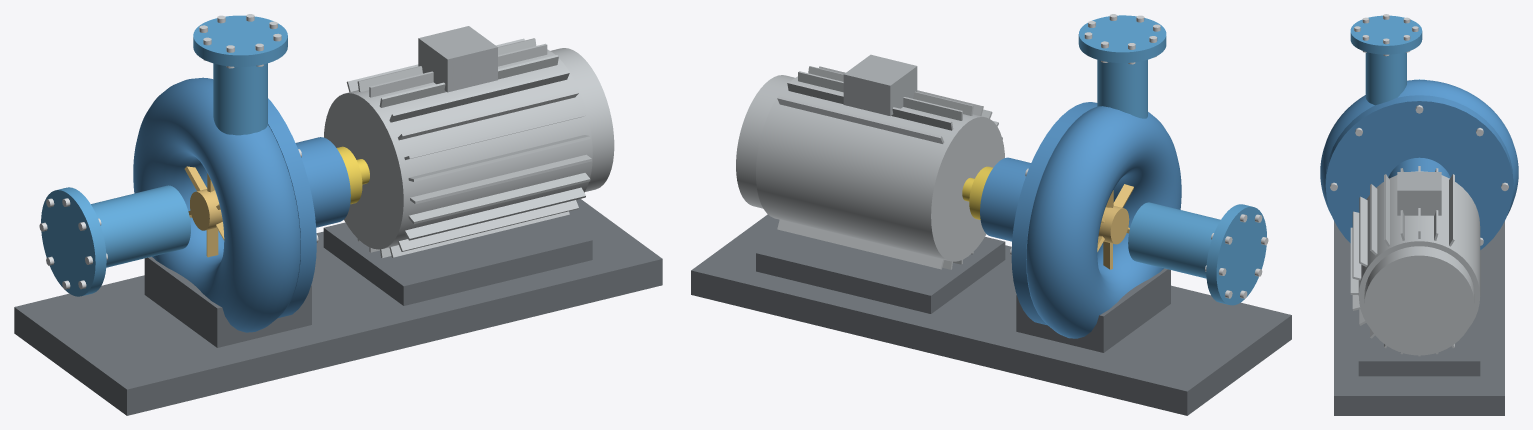
Rendered from MF-MODEL-SMALL.glb.
3 views of the same model, side by side, from view 1: azimuth 30°, elevation 25°; view 2: azimuth 150°, elevation 25°; view 3: azimuth 270°, elevation 25° (orthographic). The views are drawn at different scales.
Parts seen in each view (by area): view 1: Base, Motor, Casing, Inlet, Outlet, TerminalBox, BearingHousing, Impeller, Fasteners, Coupling; view 2: Base, Motor, Casing, Inlet, Outlet, TerminalBox, BearingHousing, Impeller, Fasteners, Coupling; view 3: Motor, Casing, Base, Outlet, TerminalBox, Fasteners, BearingHousing.
Boxes of the visible parts, left/top/right/bottom form: Base: left=14, top=199, right=662, bottom=415; Motor: left=324, top=38, right=614, bottom=257; Casing: left=133, top=77, right=316, bottom=332; Inlet: left=41, top=185, right=190, bottom=296; Outlet: left=193, top=15, right=287, bottom=135; TerminalBox: left=418, top=26, right=497, bottom=92; BearingHousing: left=295, top=137, right=350, bottom=227; Impeller: left=184, top=166, right=224, bottom=257; Fasteners: left=39, top=14, right=318, bottom=289; Coupling: left=336, top=146, right=369, bottom=204; Base: left=691, top=214, right=1291, bottom=415; Motor: left=736, top=66, right=1004, bottom=269; Casing: left=1011, top=102, right=1181, bottom=338; Inlet: left=1128, top=202, right=1266, bottom=305; Outlet: left=1078, top=15, right=1166, bottom=118; TerminalBox: left=843, top=54, right=917, bottom=116; BearingHousing: left=980, top=157, right=1031, bottom=241; Impeller: left=1097, top=184, right=1133, bottom=269; Fasteners: left=1010, top=14, right=1268, bottom=298; Coupling: left=962, top=166, right=992, bottom=219; Motor: left=1350, top=166, right=1480, bottom=356; Casing: left=1320, top=80, right=1518, bottom=249; Base: left=1334, top=221, right=1504, bottom=415; Outlet: left=1350, top=15, right=1422, bottom=105; TerminalBox: left=1397, top=172, right=1441, bottom=215; Fasteners: left=1330, top=14, right=1508, bottom=245; BearingHousing: left=1388, top=157, right=1450, bottom=178.
Bounding box in the file's own units: 1.72 × 0.98 × 0.72.
